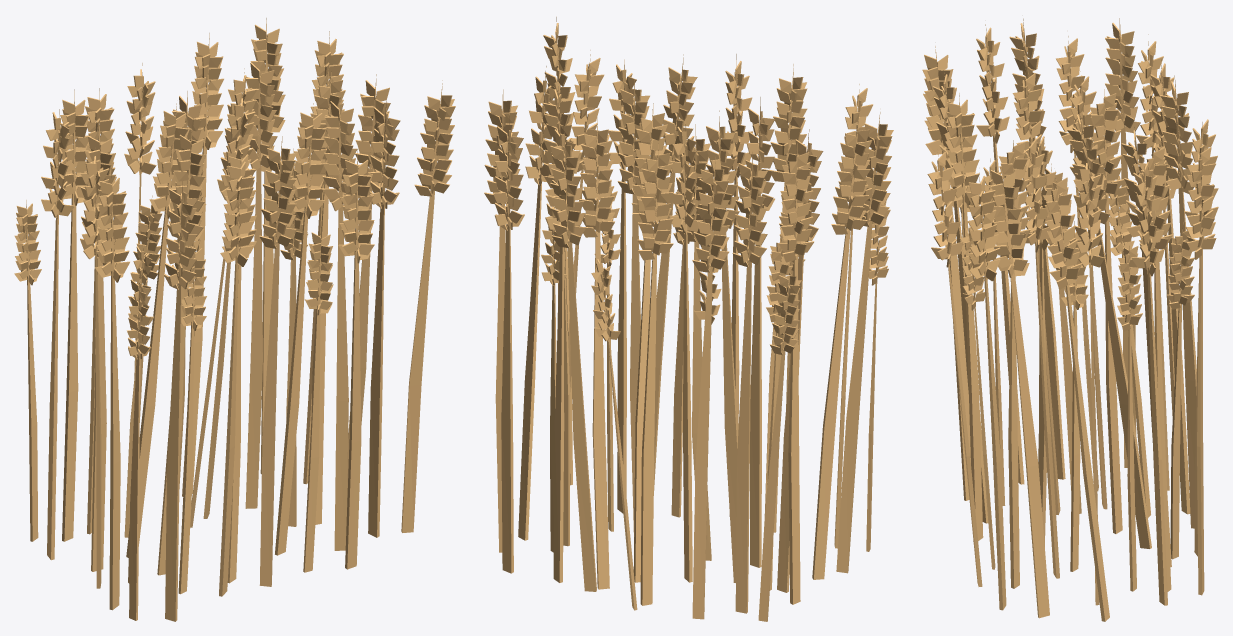
Rendered from wheat.glb.
The picture shows the model from 3 angles, left to right: view 1: azimuth 30°, elevation 25°; view 2: azimuth 150°, elevation 25°; view 3: azimuth 270°, elevation 25°; orthographic projection.
Visible parts, largest first — view 1: group877564875, group1944903783, group366426862, group1336510862, group2022519915, group639091610, group802823700, group2081564868, group136743578, group1867905624, group525525868, group225800380 (+22 smaller); view 2: group164260661, group2040804981, group1751253612, group2005883896, group41841183, group136743578, group2081564868, group1695634904, group1413011791, group674666909, group1651368408, group225800380 (+23 smaller); view 3: group1867905624, group674666909, group1944903783, group877564875, group2040804981, group52405137, group1242052759, group548620558, group1695634904, group2022519915, group1336510862, group366426862 (+23 smaller).
Part boxes in pixels (x1,y1,x2,y2): group877564875: [401, 80, 455, 532]; group1944903783: [259, 136, 296, 586]; group366426862: [163, 181, 197, 621]; group1336510862: [275, 103, 326, 555]; group2022519915: [322, 93, 357, 550]; group639091610: [338, 149, 374, 569]; group802823700: [245, 54, 277, 508]; group2081564868: [94, 168, 129, 610]; group136743578: [57, 89, 91, 541]; group1867905624: [368, 101, 400, 537]; group525525868: [219, 154, 254, 596]; group225800380: [126, 103, 189, 557]; group164260661: [812, 116, 871, 579]; group2040804981: [637, 144, 673, 605]; group1751253612: [692, 157, 729, 619]; group2005883896: [550, 132, 596, 591]; group41841183: [579, 117, 614, 589]; group136743578: [732, 152, 767, 613]; group2081564868: [836, 112, 893, 573]; group1695634904: [493, 114, 524, 573]; group1413011791: [778, 143, 814, 604]; group674666909: [518, 66, 558, 540]; group1651368408: [745, 97, 775, 567]; group225800380: [706, 110, 739, 582]; group1867905624: [988, 160, 1049, 618]; group674666909: [1043, 171, 1109, 621]; group1944903783: [945, 93, 983, 541]; group877564875: [965, 172, 1006, 610]; group2040804981: [1160, 75, 1196, 528]; group52405137: [1089, 89, 1123, 533]; group1242052759: [1131, 159, 1167, 605]; group548620558: [1067, 112, 1151, 548]; group1695634904: [1185, 138, 1216, 595]; group2022519915: [998, 140, 1030, 588]; group1336510862: [1023, 137, 1059, 578]; group366426862: [922, 46, 970, 500].
Size of the model in its own units: 2.75 by 3.6 by 2.02.
